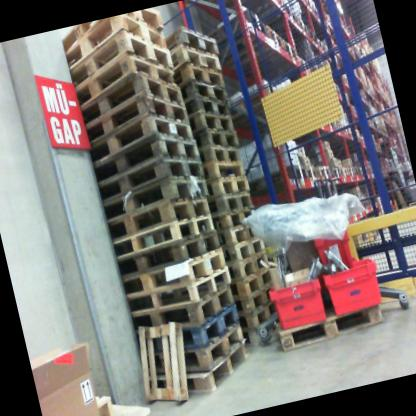pallet: (269, 292, 396, 355), (66, 21, 173, 92), (74, 66, 189, 131), (70, 43, 179, 111), (147, 338, 257, 404), (182, 0, 275, 78), (128, 315, 199, 415), (141, 322, 250, 386), (56, 7, 166, 70), (95, 147, 210, 207), (100, 170, 216, 229), (139, 301, 249, 363), (127, 284, 242, 341), (86, 107, 196, 166), (124, 267, 234, 323), (91, 129, 202, 184), (116, 229, 225, 285), (119, 248, 230, 302), (84, 85, 192, 140), (103, 192, 213, 241), (108, 213, 219, 260), (61, 10, 164, 51), (223, 83, 292, 140), (231, 35, 304, 83), (161, 14, 220, 68), (167, 35, 224, 84), (197, 0, 285, 31), (226, 23, 286, 65), (172, 53, 226, 98), (94, 383, 160, 416), (250, 161, 311, 193), (194, 121, 243, 158), (184, 88, 231, 125), (180, 74, 228, 110), (202, 132, 243, 169), (206, 154, 248, 188), (234, 265, 276, 299), (244, 301, 287, 334), (239, 282, 280, 316), (225, 232, 267, 265), (192, 107, 236, 138), (229, 251, 271, 283), (221, 221, 263, 252), (210, 185, 252, 215), (216, 204, 258, 232), (210, 175, 251, 203), (310, 156, 333, 181), (282, 0, 300, 24), (328, 112, 346, 134), (303, 164, 320, 184), (354, 164, 368, 186), (330, 165, 342, 181), (338, 164, 349, 180)
small_load_carrier: (319, 243, 390, 318), (266, 266, 334, 331), (309, 221, 359, 277)
